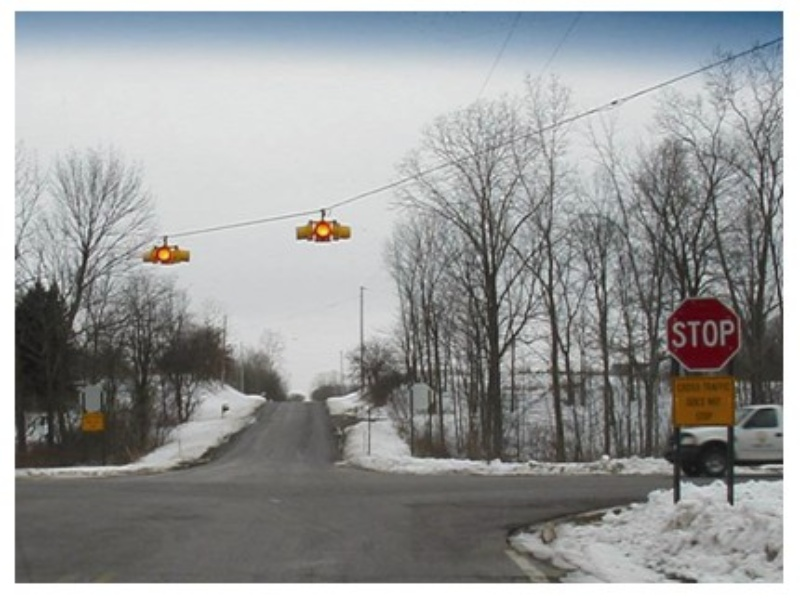stop sign: (663, 296, 744, 375)
